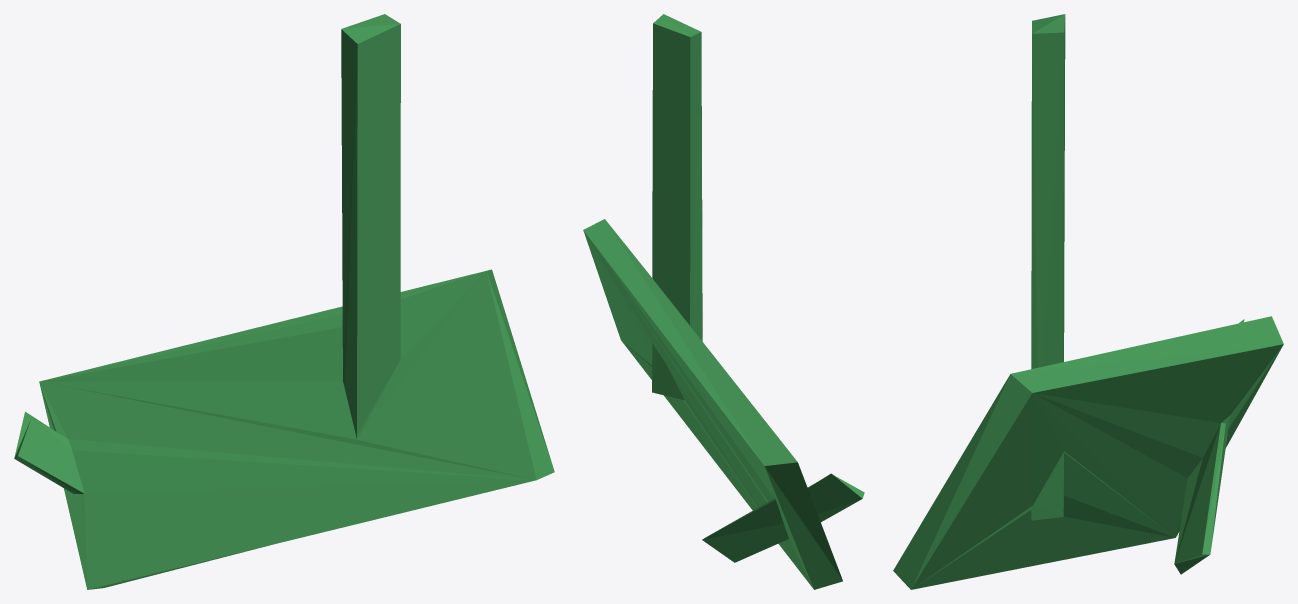
3 views of the same model, side by side, from view 1: azimuth 30°, elevation 25°; view 2: azimuth 150°, elevation 25°; view 3: azimuth 270°, elevation 25° (orthographic). The views are drawn at different scales.
Parts seen in each view (by area): view 1: 812_Cube.3275; view 2: 812_Cube.3275; view 3: 812_Cube.3275.
Part boxes in pixels (x1,y1,x2,y2): 812_Cube.3275: (14,14,554,589); 812_Cube.3275: (583,14,864,589); 812_Cube.3275: (893,14,1283,589).
Size of the model in its own units: 12.32 by 15.95 by 8.89.
